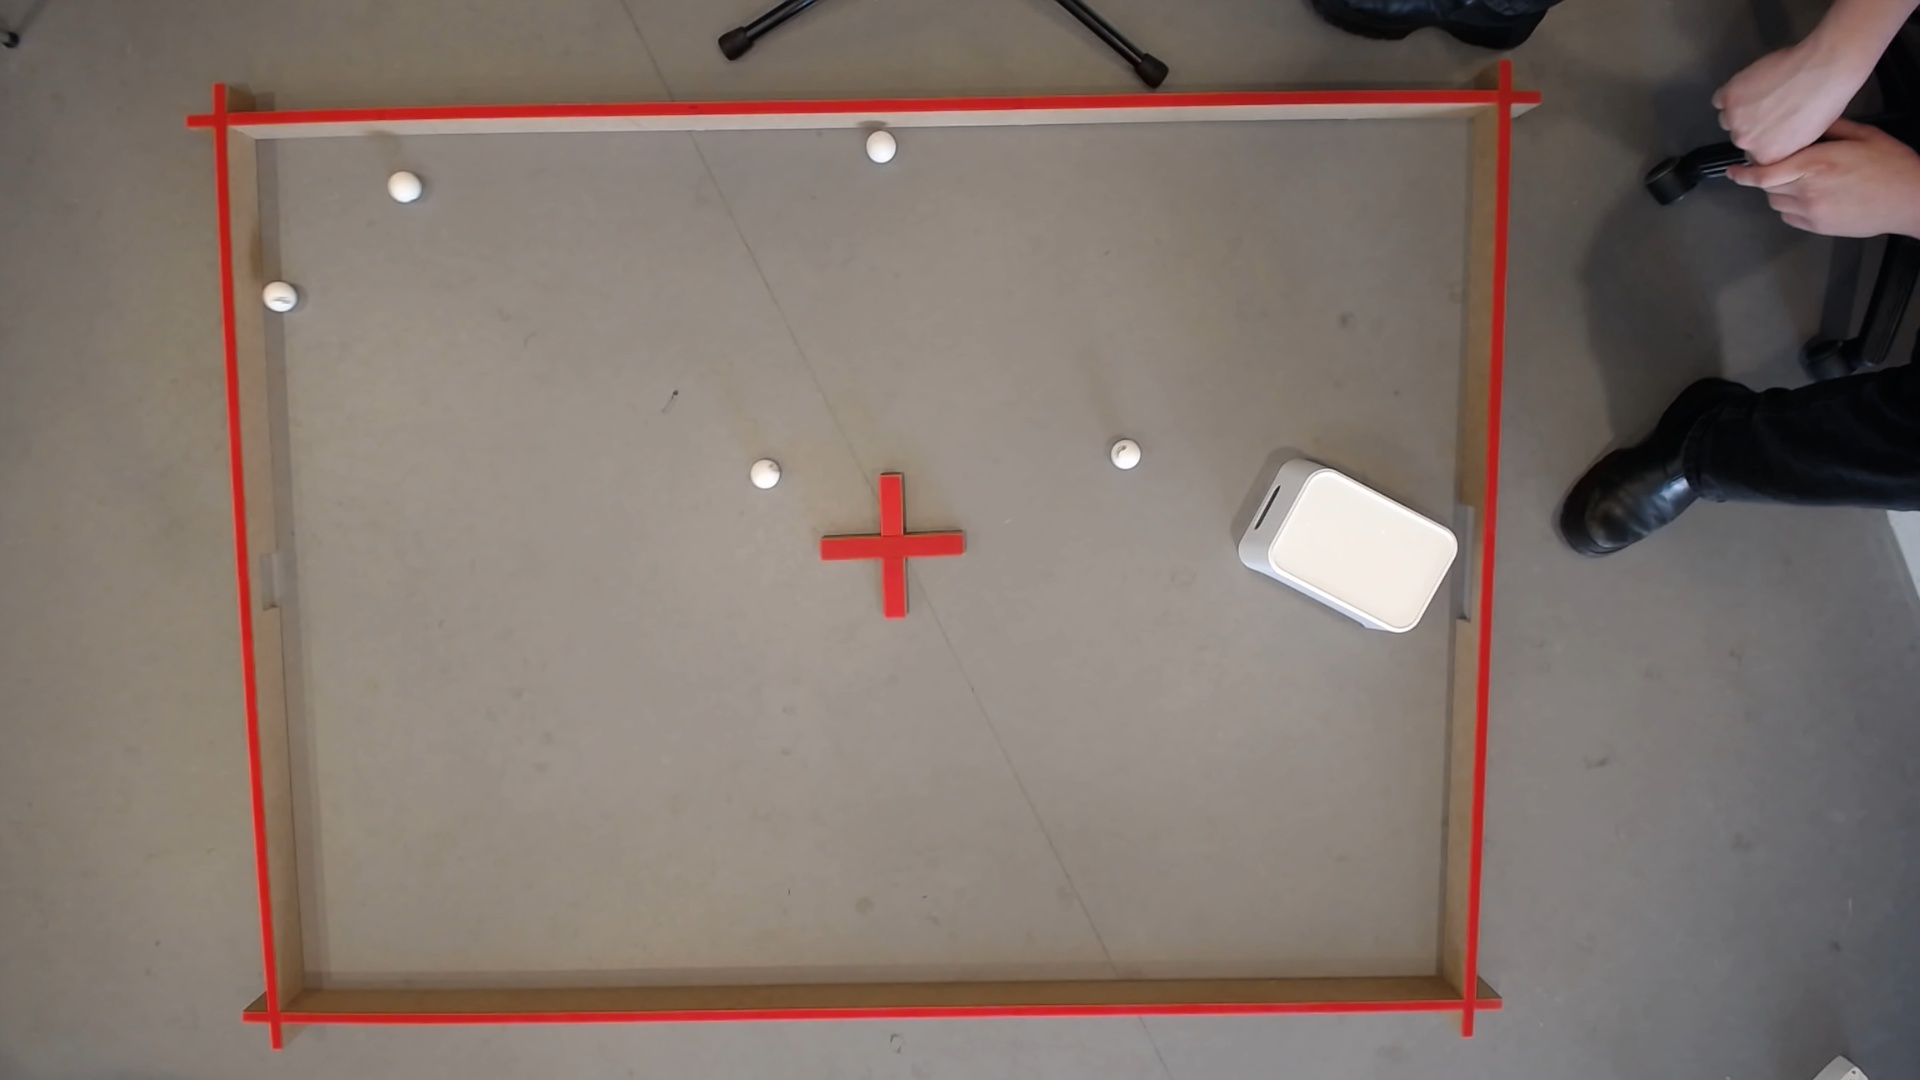balls: (1758, 61, 1866, 170), (861, 127, 899, 166), (258, 280, 298, 315), (744, 456, 781, 493), (384, 170, 422, 206), (1109, 442, 1143, 473)
car: (1760, 169, 1797, 187)
